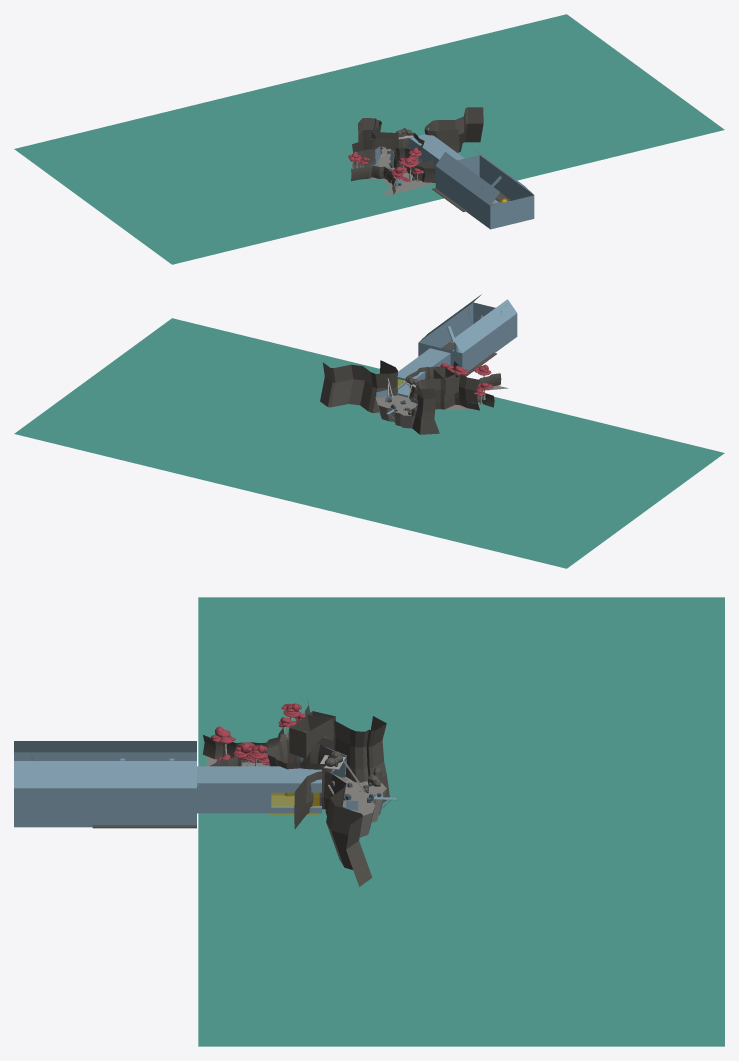
Rendered from level_layout_01.fbx.
3 renders of one model, top to bottom at view 1: azimuth 30°, elevation 25°; view 2: azimuth 150°, elevation 25°; view 3: azimuth 270°, elevation 25°, orthographic. The views are drawn at different scales.
Visible parts, largest first — view 1: water_geo, tunnel_geo, walls_geo, ground_geo; view 2: water_geo, walls_geo, tunnel_geo, ground_geo; view 3: water_geo, tunnel_geo, walls_geo, ground_geo.
Boxes of the visible parts, bbox=[...] form: water_geo: bbox=[14, 14, 724, 264]; tunnel_geo: bbox=[409, 134, 534, 229]; walls_geo: bbox=[351, 107, 483, 194]; ground_geo: bbox=[370, 146, 435, 196]; water_geo: bbox=[14, 318, 724, 568]; walls_geo: bbox=[320, 360, 501, 434]; tunnel_geo: bbox=[397, 294, 517, 397]; ground_geo: bbox=[375, 385, 508, 428]; water_geo: bbox=[198, 597, 724, 1046]; tunnel_geo: bbox=[14, 741, 321, 827]; walls_geo: bbox=[202, 699, 389, 886]; ground_geo: bbox=[206, 756, 386, 837].
Bounding box in the file's own units: 1056 × 95.52 × 706.
